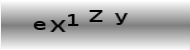1: (65, 12, 80, 26)
X: (49, 19, 66, 33)
Z: (87, 9, 104, 23)
e: (32, 20, 46, 31)
y: (113, 11, 130, 26)
